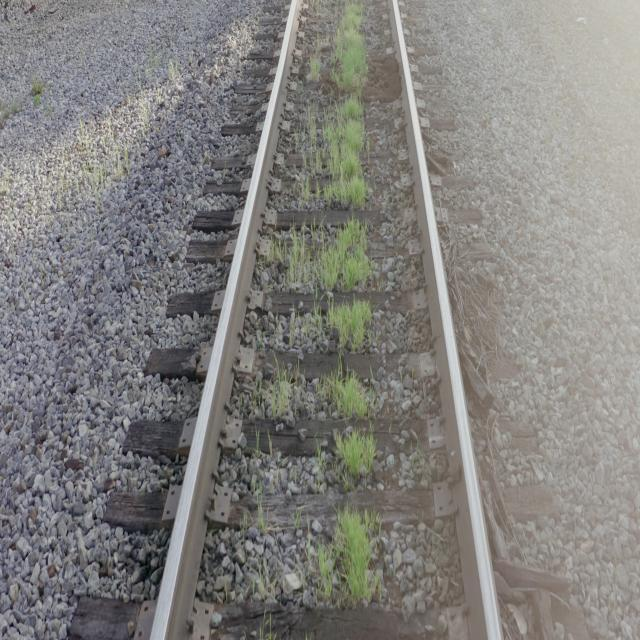Plant: (299, 2, 370, 211), (271, 216, 371, 293), (319, 507, 380, 604), (320, 371, 371, 420), (326, 300, 371, 353), (339, 427, 376, 487), (272, 371, 291, 418), (310, 38, 321, 82), (355, 531, 356, 533)
